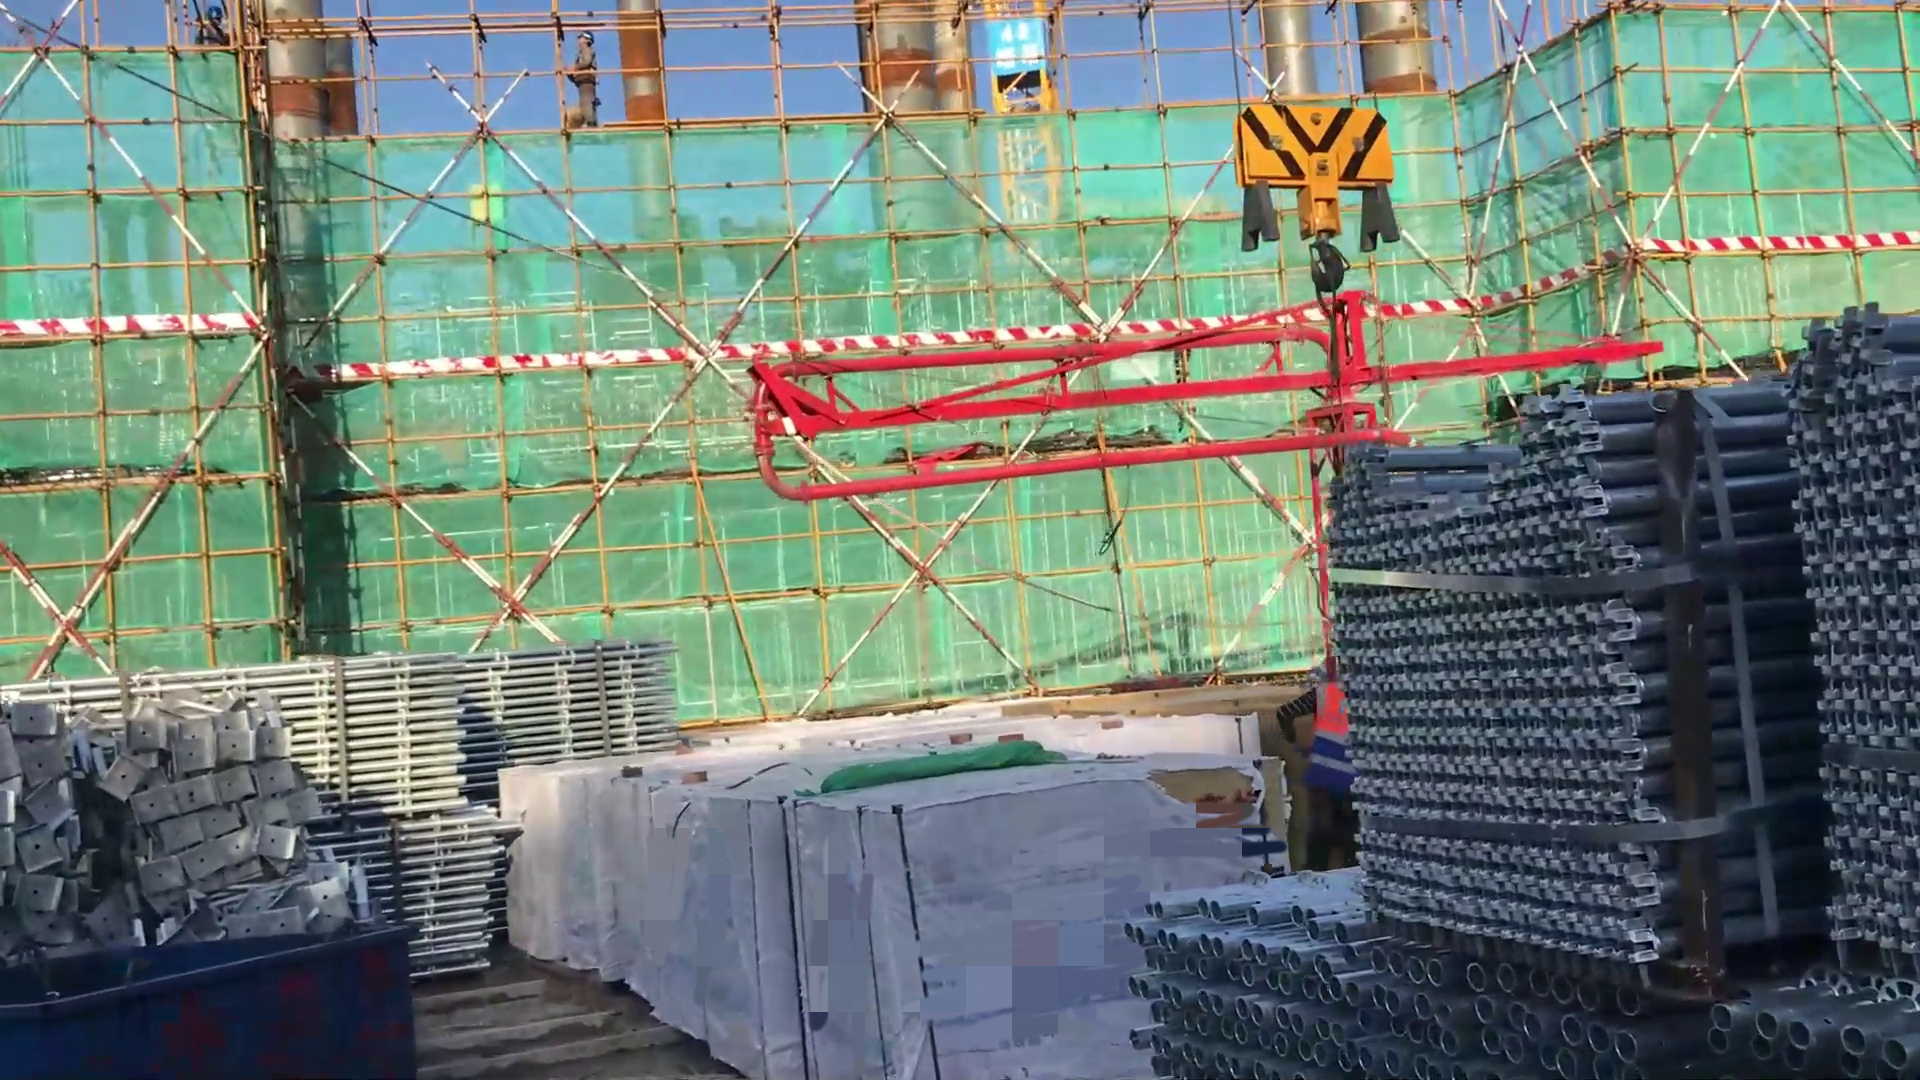helmet: (573, 24, 598, 51)
hook: (1211, 76, 1447, 351)
hopper: (3, 899, 411, 1080)
person: (1263, 663, 1370, 875), (559, 26, 610, 138)
scaffold: (1276, 376, 1752, 973), (1059, 859, 1920, 1075), (1769, 285, 1920, 1007), (5, 623, 479, 832), (445, 616, 695, 778), (327, 805, 552, 978)
slogan: (988, 10, 1051, 81)
vest: (1304, 678, 1366, 808)
